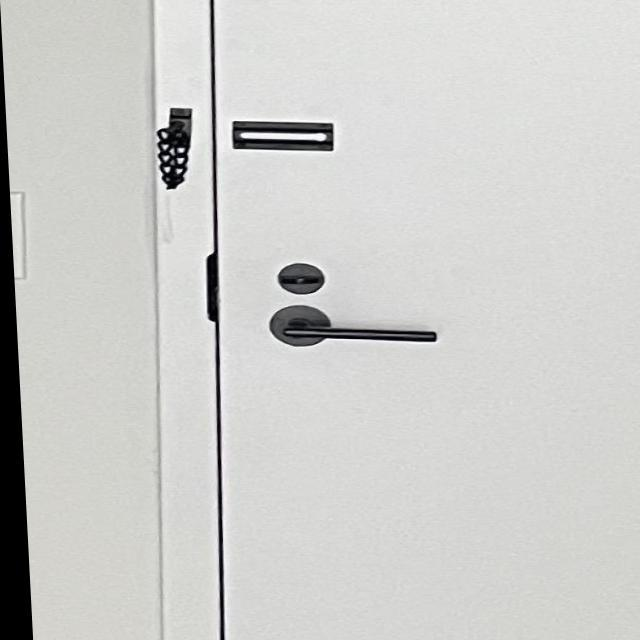door_handle: (254, 299, 449, 353)
